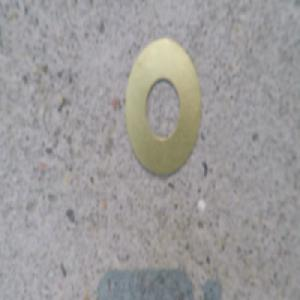Washer: (118, 38, 197, 178)
